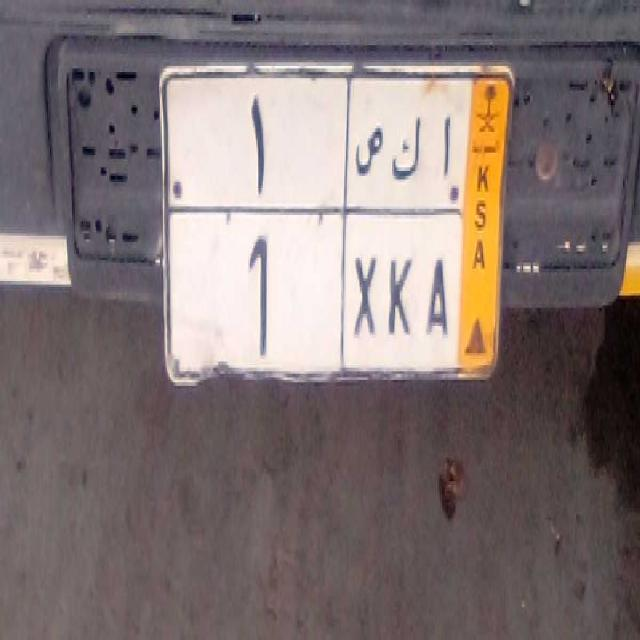license_plate: (166, 212, 464, 378)
